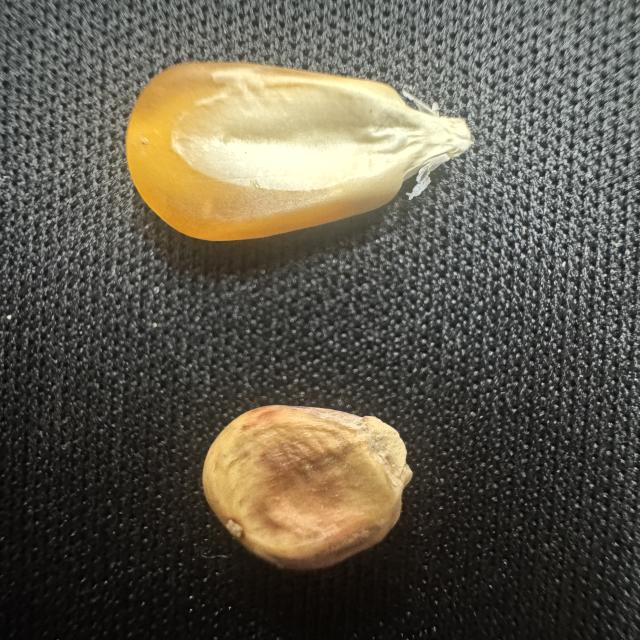Bad-Seed: (189, 392, 434, 586)
Good-Seed: (108, 51, 487, 253)
